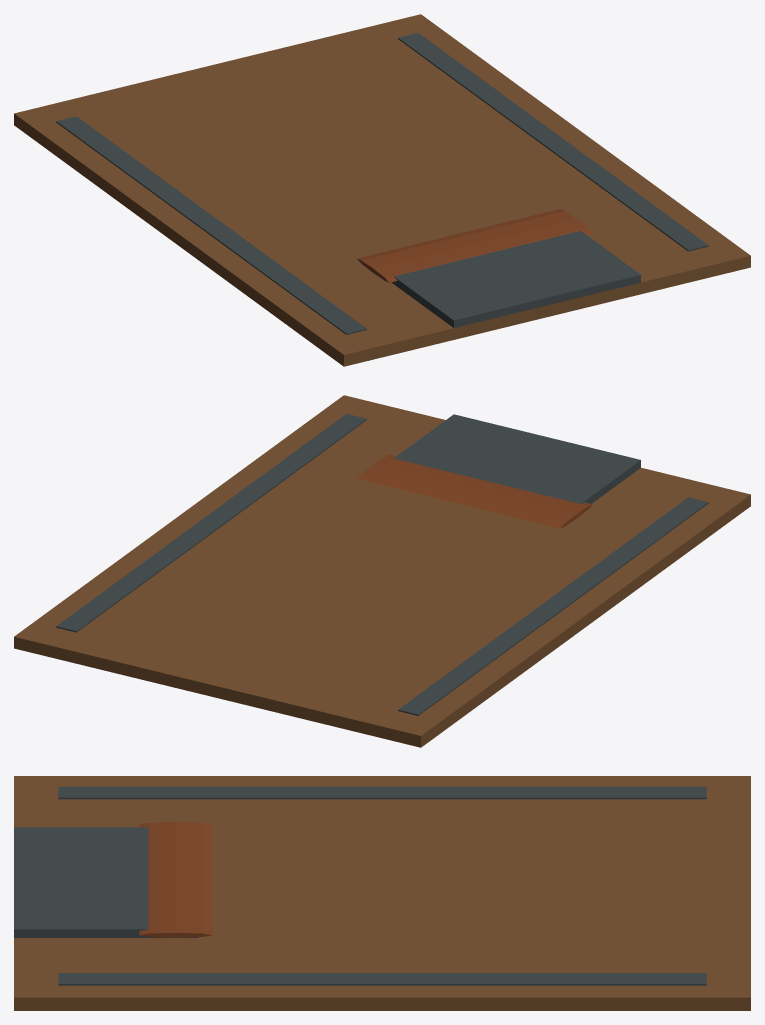
File: EVIDENCE_CLIPBOARD_LODs.fbx
3 renders of one model, top to bottom at view 1: azimuth 30°, elevation 25°; view 2: azimuth 150°, elevation 25°; view 3: azimuth 270°, elevation 25°, orthographic. The views are drawn at different scales.
Parts seen in each view (by area): view 1: EVIDENCE_CLIPBOARD_LOD0; view 2: EVIDENCE_CLIPBOARD_LOD0; view 3: EVIDENCE_CLIPBOARD_LOD0.
Part boxes in pixels (x1,y1,x2,y2): EVIDENCE_CLIPBOARD_LOD0: [14, 14, 750, 366]; EVIDENCE_CLIPBOARD_LOD0: [14, 395, 750, 747]; EVIDENCE_CLIPBOARD_LOD0: [14, 776, 750, 1010].
Size of what is drawn, in the model's own units: 0.235 by 0.012 by 0.33.
